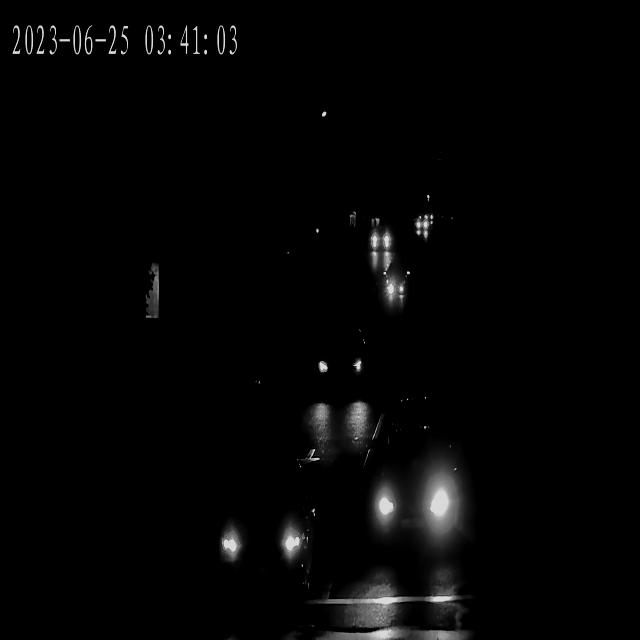Car: (208, 472, 318, 594), (354, 427, 464, 541), (314, 329, 372, 388), (382, 270, 408, 310), (367, 229, 393, 253), (412, 219, 431, 233)
